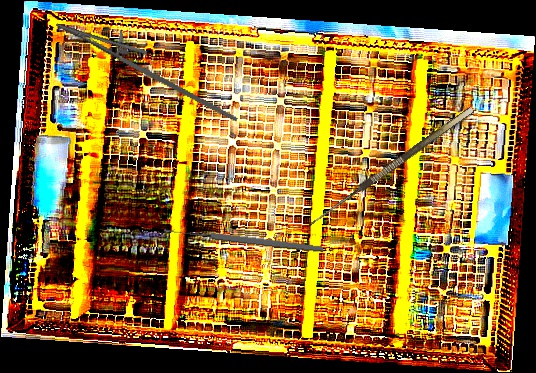Hook Surgical: (305, 106, 481, 237)
Needle Holder: (46, 8, 253, 122)
Surgical Spoon: (163, 225, 324, 254)
